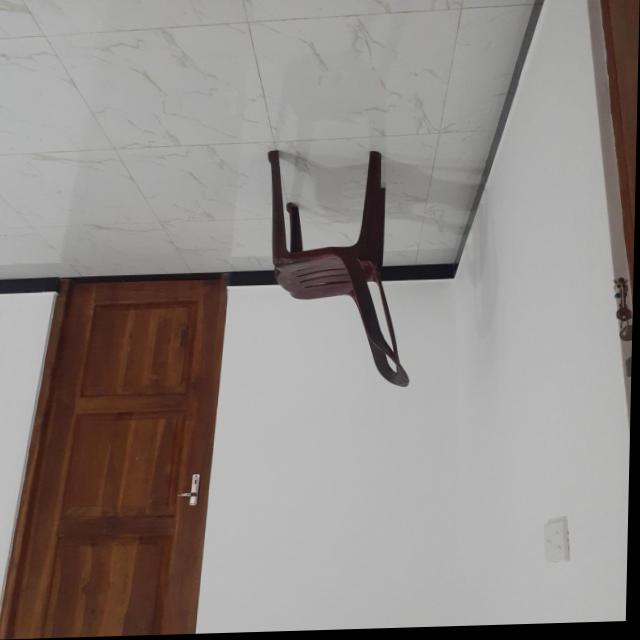Chair: (263, 147, 415, 394)
